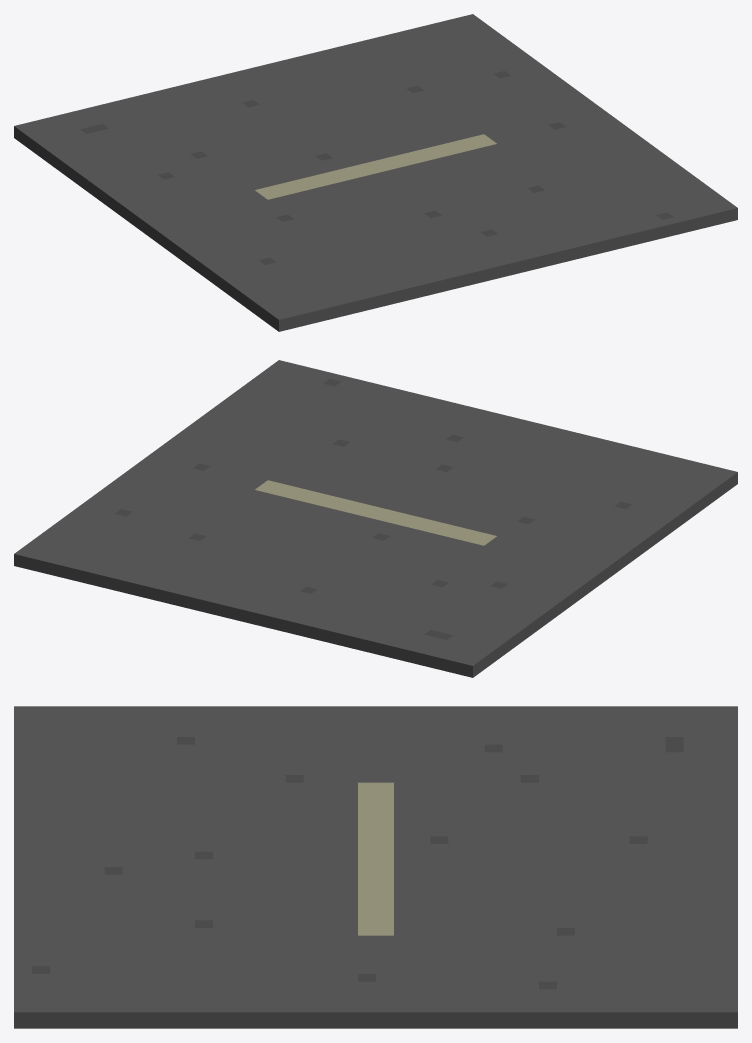
Rendered from roadway.obj.
3 views of the same model, one above another, from view 1: azimuth 30°, elevation 25°; view 2: azimuth 150°, elevation 25°; view 3: azimuth 270°, elevation 25° (orthographic). The views are drawn at different scales.
Size of the model in its own units: 4 by 0.1 by 4.
Materials: 1 (1 with a texture image).
